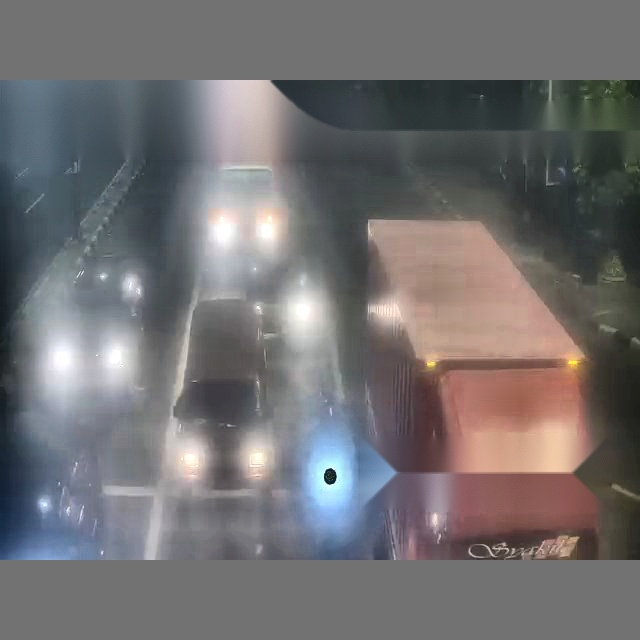Truk: (368, 218, 590, 471)
